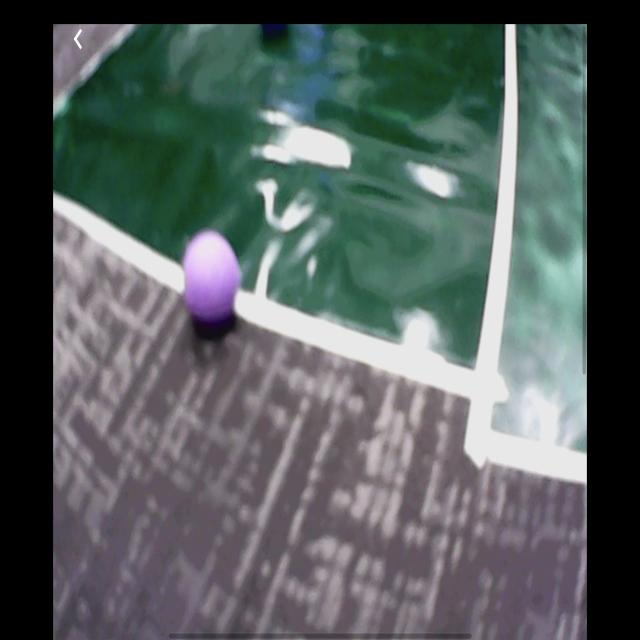ball: (184, 231, 239, 324), (261, 24, 290, 44)
